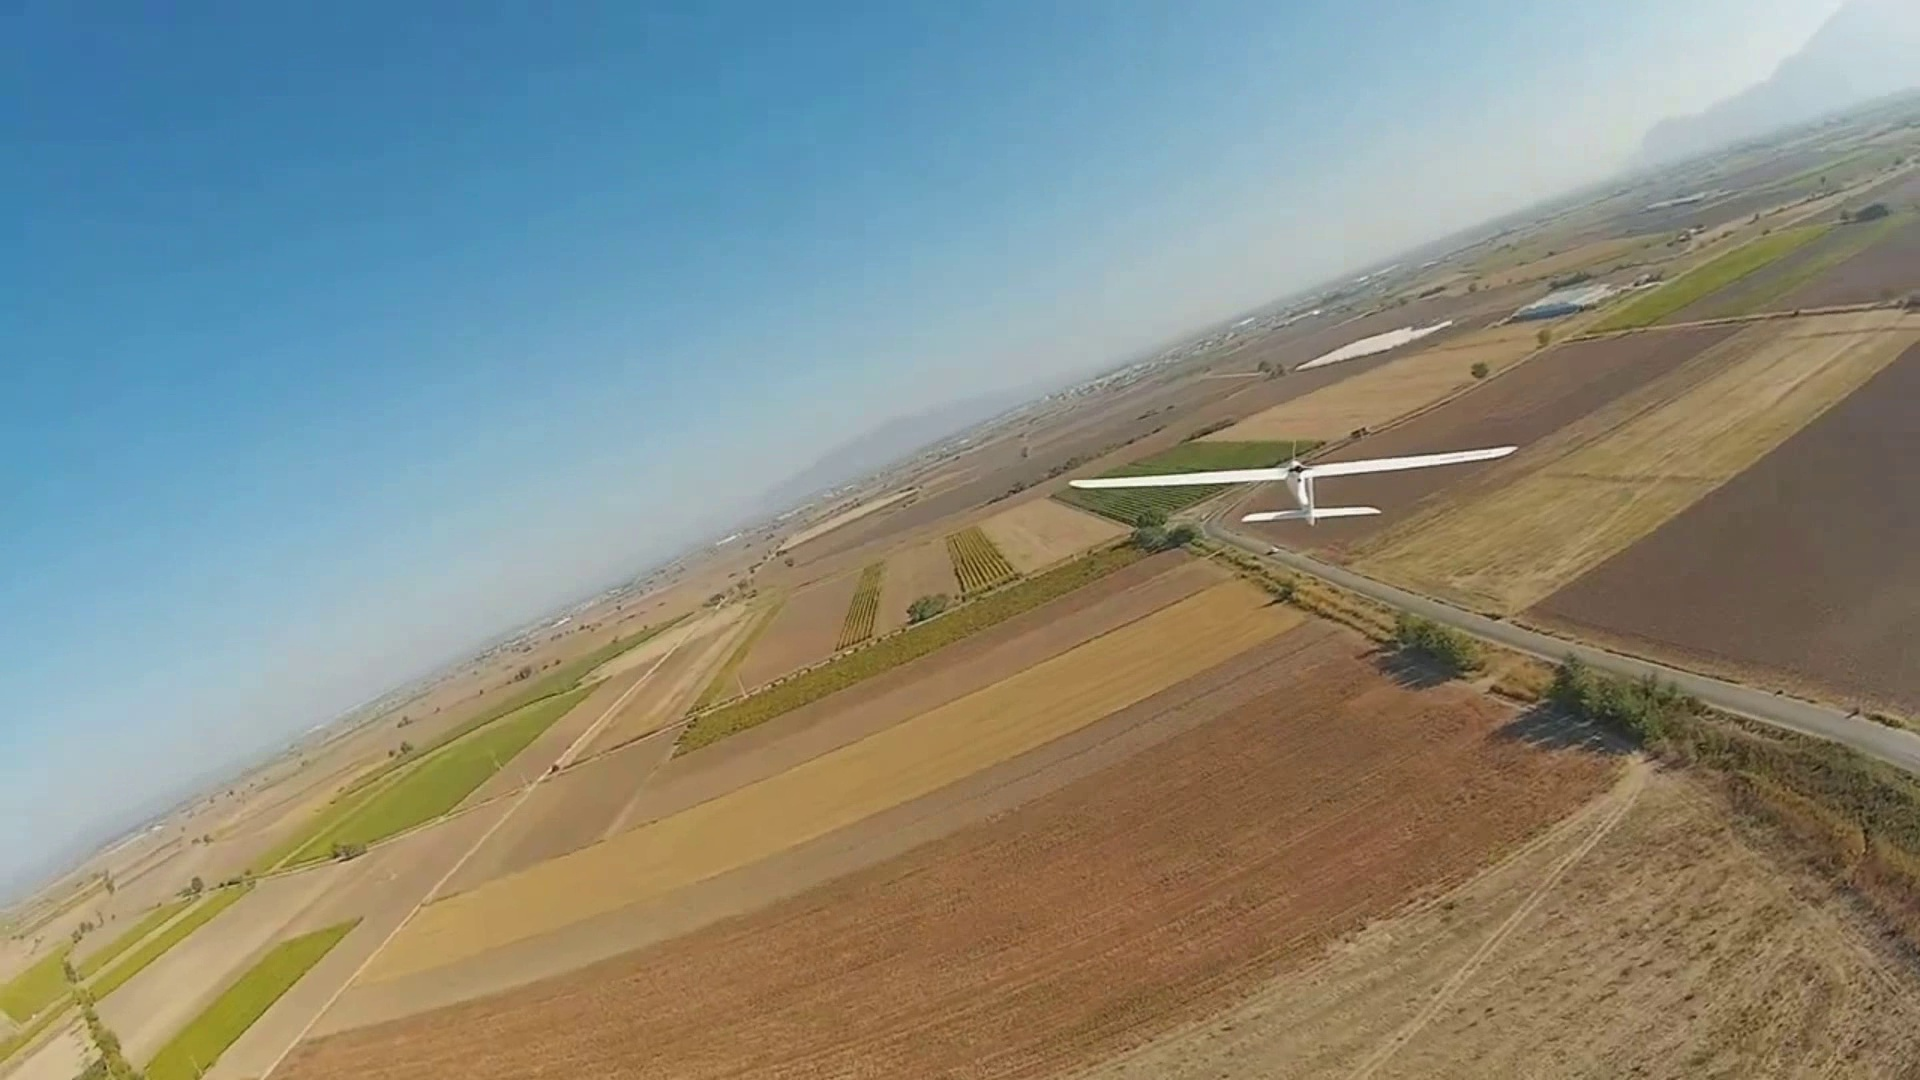airplane: (11, 174, 1915, 1062)
